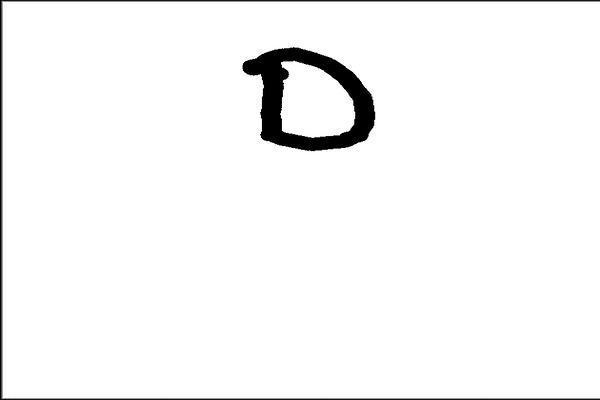D: (239, 42, 380, 155)
